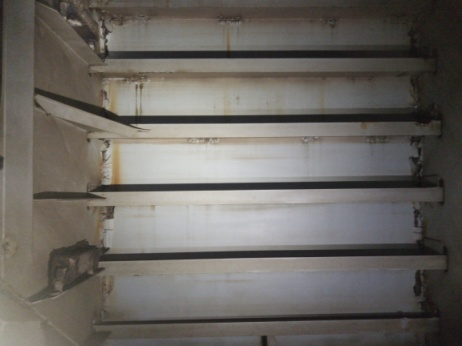corrosion: (88, 15, 120, 52), (98, 144, 124, 183), (98, 274, 119, 322), (406, 267, 428, 307), (95, 211, 117, 245), (402, 141, 424, 175), (103, 78, 124, 111), (403, 75, 422, 108), (402, 20, 423, 46), (411, 208, 426, 244)
